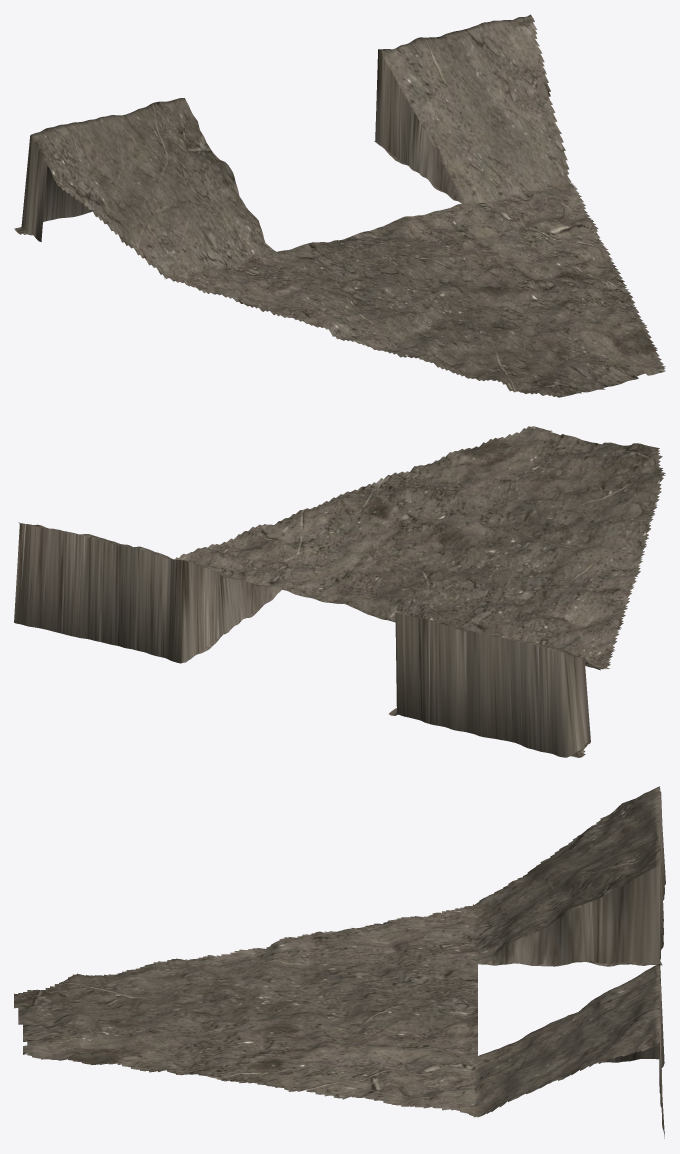
File: Scene_1_Main_Land-transformed.glb
3 views of the same model, one above another, from view 1: azimuth 30°, elevation 25°; view 2: azimuth 150°, elevation 25°; view 3: azimuth 270°, elevation 25° (orthographic). The views are drawn at different scales.
Visible parts, largest first — view 1: Generator.006; view 2: Generator.006; view 3: Generator.006.
Part boxes in pixels (x1,y1,x2,y2): Generator.006: (14, 14, 665, 397); Generator.006: (14, 426, 665, 757); Generator.006: (14, 786, 665, 1138).
Size of the model in its own units: 29.93 by 5.5 by 31.22.
1 material, 1 textured.
